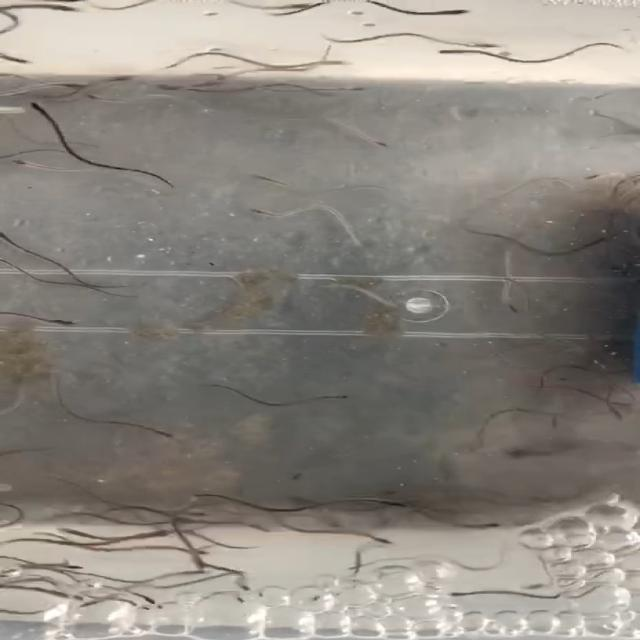active_glass_eel: (3, 155, 52, 178), (233, 167, 287, 184), (240, 203, 271, 228), (183, 550, 217, 572), (60, 523, 94, 545), (309, 53, 350, 71), (359, 534, 404, 550), (481, 299, 521, 316), (43, 0, 76, 20), (454, 517, 508, 529), (6, 50, 38, 70), (440, 584, 476, 600), (289, 1, 322, 17), (434, 9, 486, 19), (434, 46, 468, 61), (7, 98, 46, 111), (74, 89, 105, 105), (48, 78, 81, 93), (0, 228, 22, 247), (471, 38, 503, 51), (134, 594, 164, 607), (95, 69, 127, 81), (150, 427, 174, 443), (366, 138, 390, 154), (377, 497, 404, 511), (342, 82, 364, 99), (51, 317, 85, 328), (327, 388, 349, 405), (578, 170, 602, 185), (147, 527, 171, 542), (54, 561, 86, 572), (194, 72, 221, 84), (620, 406, 628, 424)
